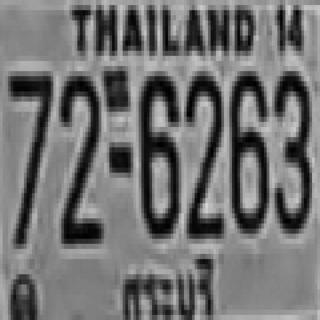N02: (57, 71, 100, 239), (184, 71, 221, 234)
N03: (272, 66, 309, 228)
N06: (139, 66, 176, 234), (229, 66, 267, 228)
N07: (5, 66, 51, 244)
P19: (120, 253, 217, 320)
